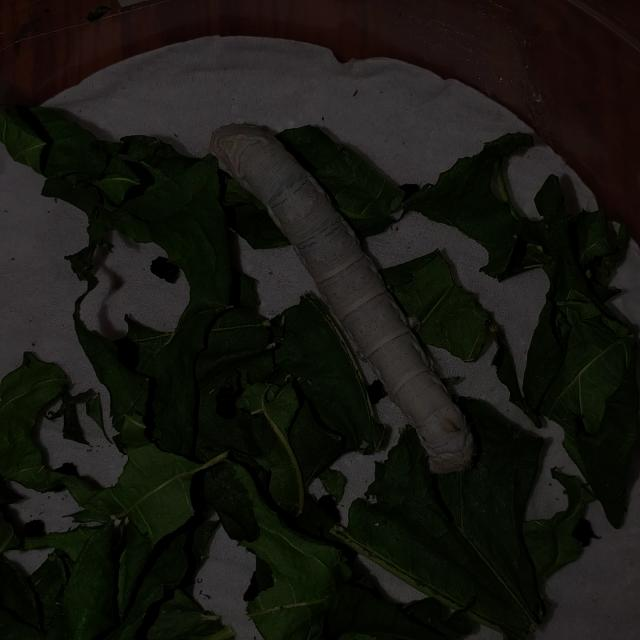Healthy: (197, 100, 513, 500)
